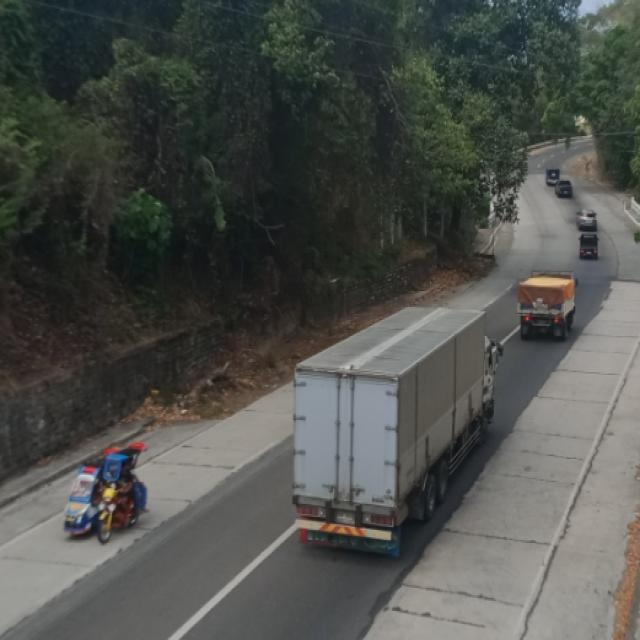Truck: (293, 303, 494, 554), (519, 269, 577, 343)
